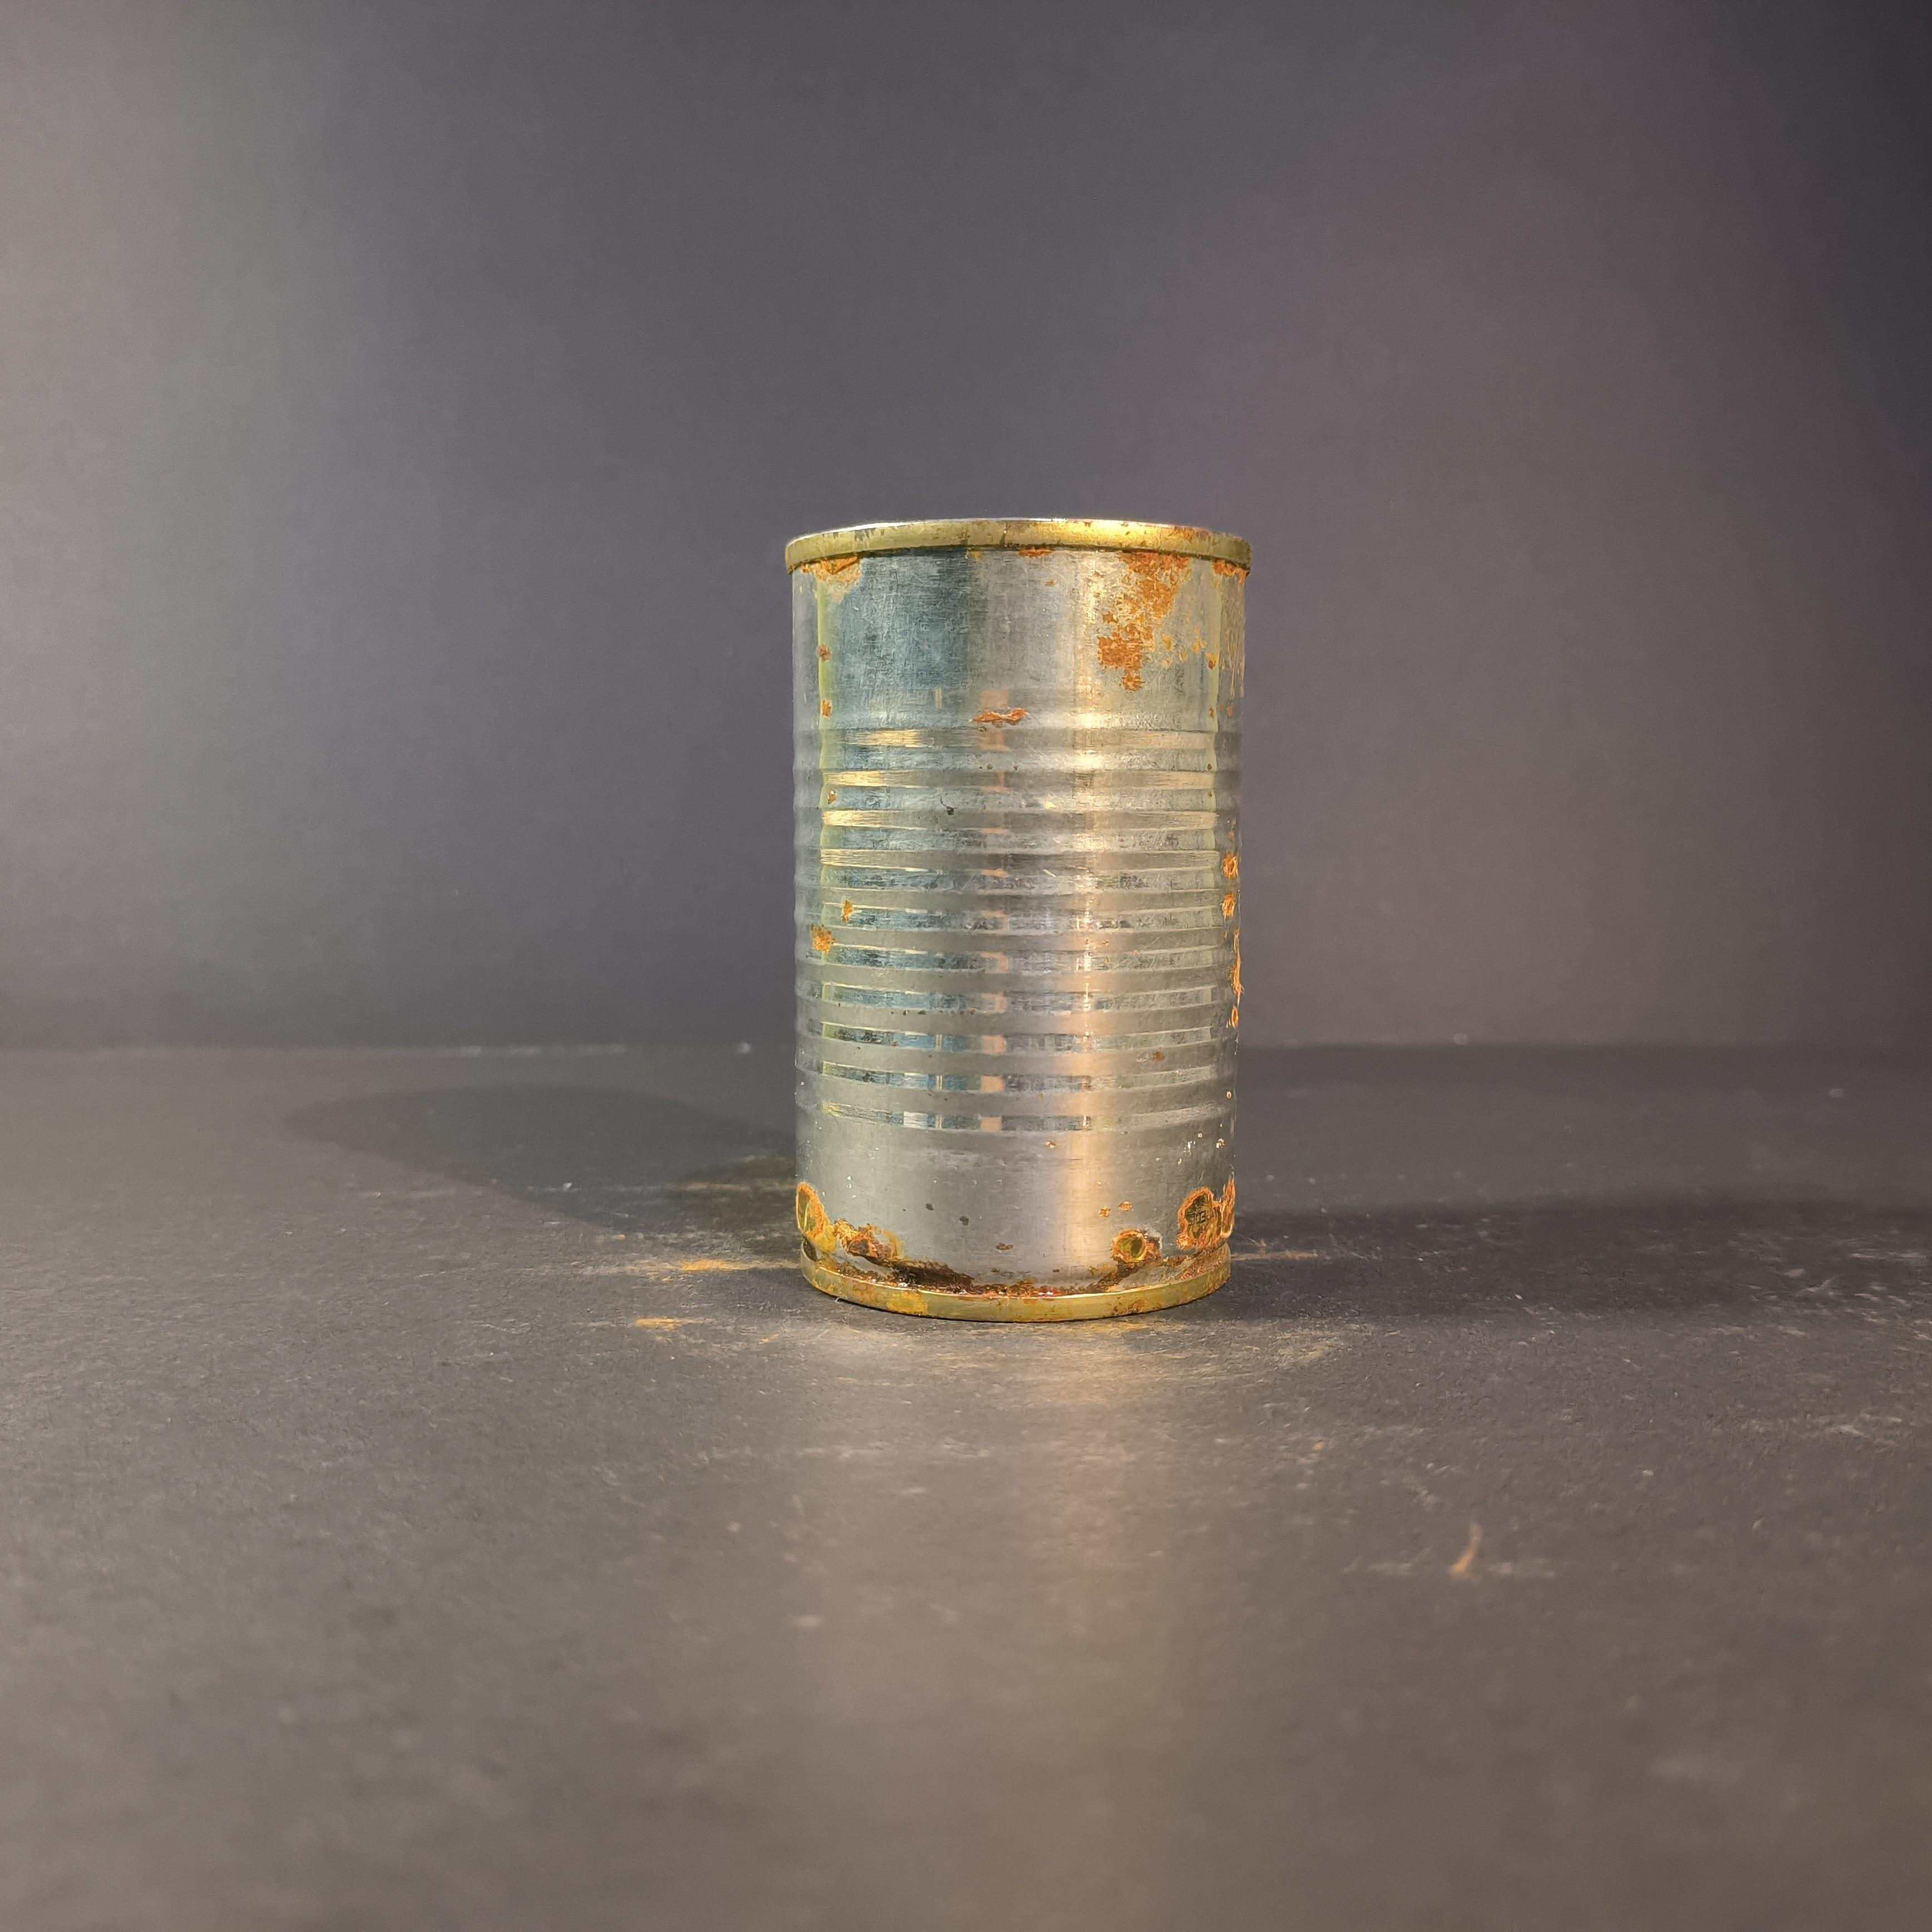Rusted: (754, 487, 1263, 1341)
